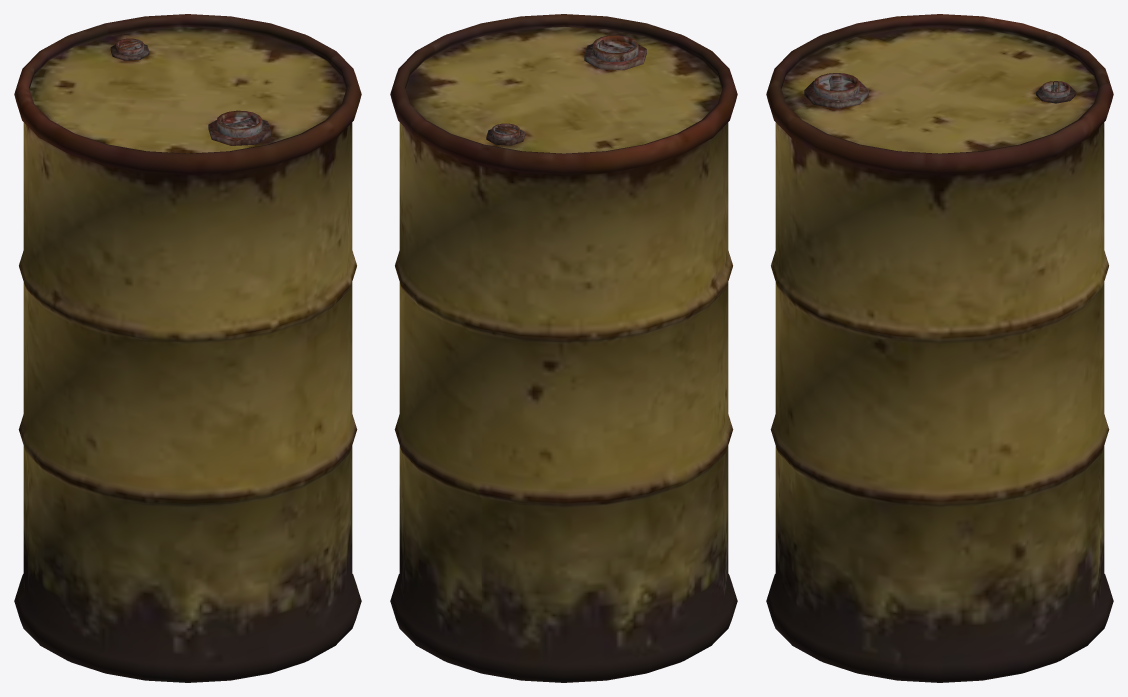
File: oil-drum--4.gltf
The picture shows the model from 3 angles, left to right: view 1: azimuth 30°, elevation 25°; view 2: azimuth 150°, elevation 25°; view 3: azimuth 270°, elevation 25°; orthographic projection.
Parts seen in each view (by area): view 1: barrel4, cap.barrel4, cap.base4; view 2: barrel4, cap.barrel4, cap.base4; view 3: barrel4, cap.barrel4, cap.base4.
Boxes of the visible parts, x1,y1,x2,y2 form: barrel4: [14, 14, 361, 682]; cap.barrel4: [115, 38, 262, 137]; cap.base4: [110, 44, 270, 145]; barrel4: [390, 14, 737, 682]; cap.barrel4: [491, 35, 638, 140]; cap.base4: [486, 44, 646, 145]; barrel4: [766, 14, 1113, 682]; cap.barrel4: [813, 73, 1070, 99]; cap.base4: [804, 80, 1076, 108].
Size of the model in its own units: 0.5338 by 0.9 by 0.5338.
3 materials, 3 textured.
